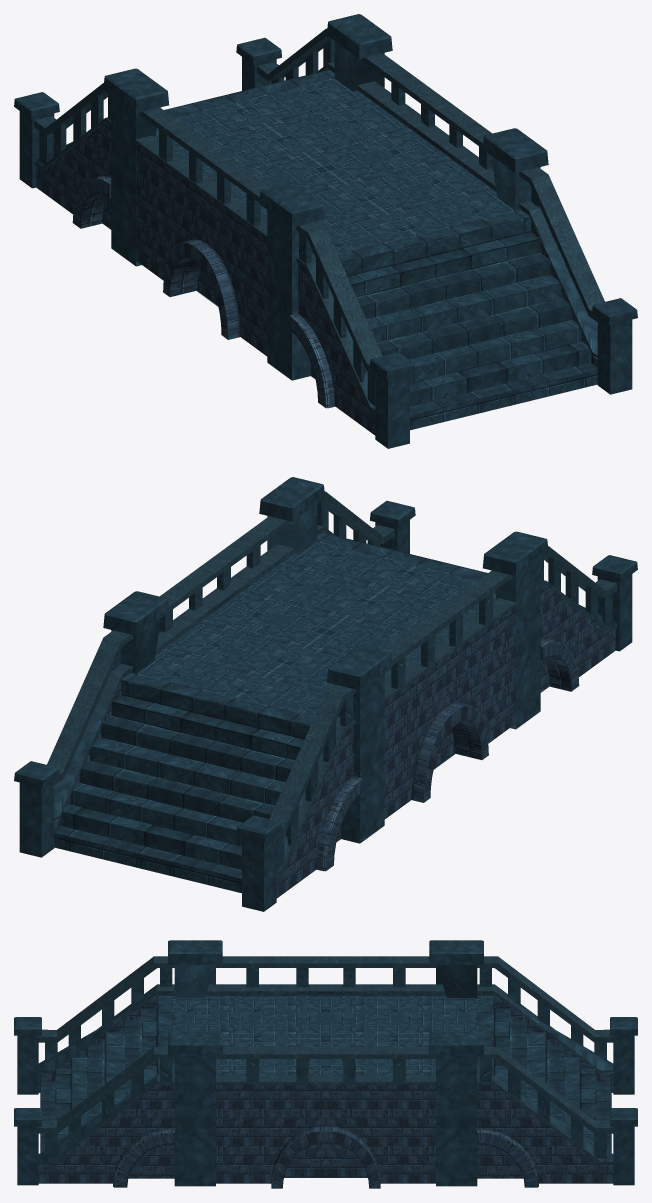
The model's file is Ponte.fbx.
3 views of the same model, one above another, from view 1: azimuth 30°, elevation 25°; view 2: azimuth 150°, elevation 25°; view 3: azimuth 270°, elevation 25° (orthographic). The views are drawn at different scales.
Visible parts, largest first — view 1: Cube.001, Cube.000; view 2: Cube.001, Cube.000; view 3: Cube.001, Cube.000.
Part boxes in pixels (left/top/right/bottom): Cube.001: left=14, top=14, right=637, bottom=448; Cube.000: left=34, top=28, right=597, bottom=376; Cube.001: left=14, top=477, right=637, bottom=911; Cube.000: left=47, top=491, right=617, bottom=839; Cube.001: left=14, top=940, right=637, bottom=1188; Cube.000: left=38, top=956, right=613, bottom=1127.
Size of the model in its own units: 750 by 473 by 1857.
